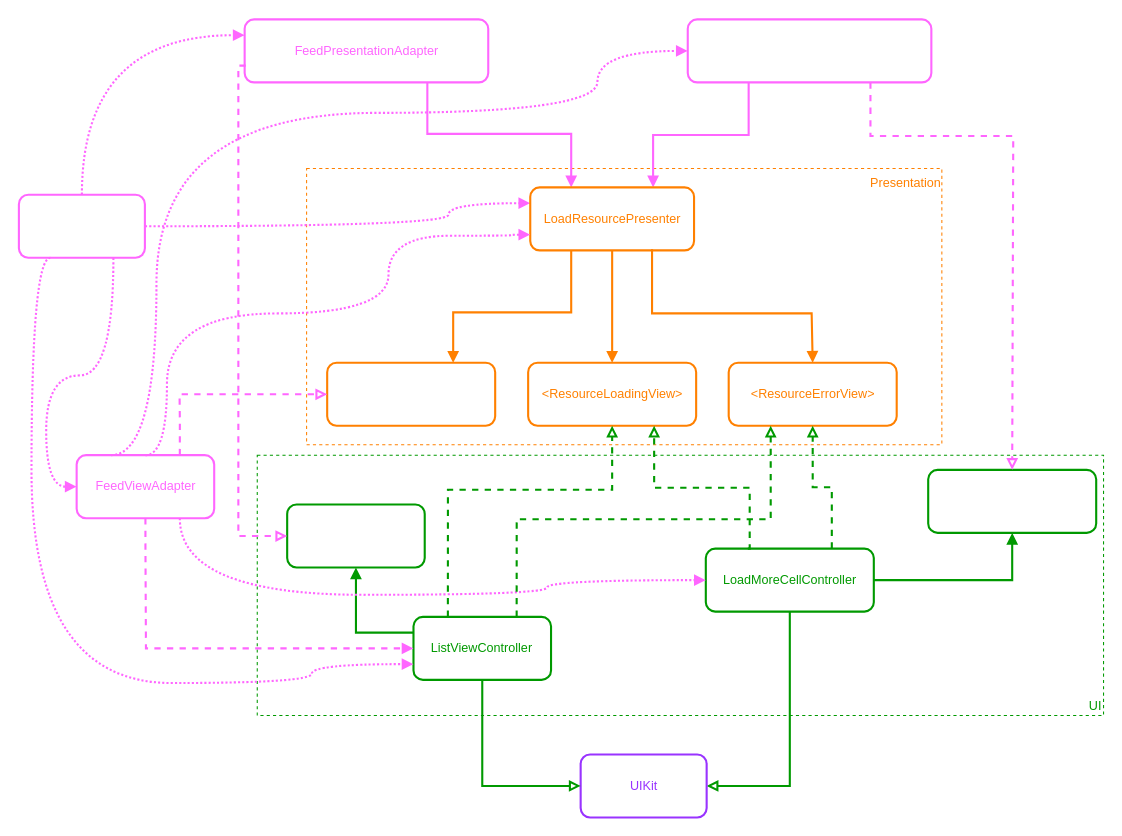
The diagram is 1122 pixels wide and 836 high, and some of its shapes have lost their labels. Here are the shapes that lost their labels. From the top down, the centre of each, then its label:
At (x=809, y=50): "LoadMorePresentationAdapter".
At (x=81, y=225): "FeedUIComposer".
At (x=411, y=393): "<ResourceView>".
At (x=1012, y=500): "<callback>".
At (x=355, y=535): "<onRefresh>".
